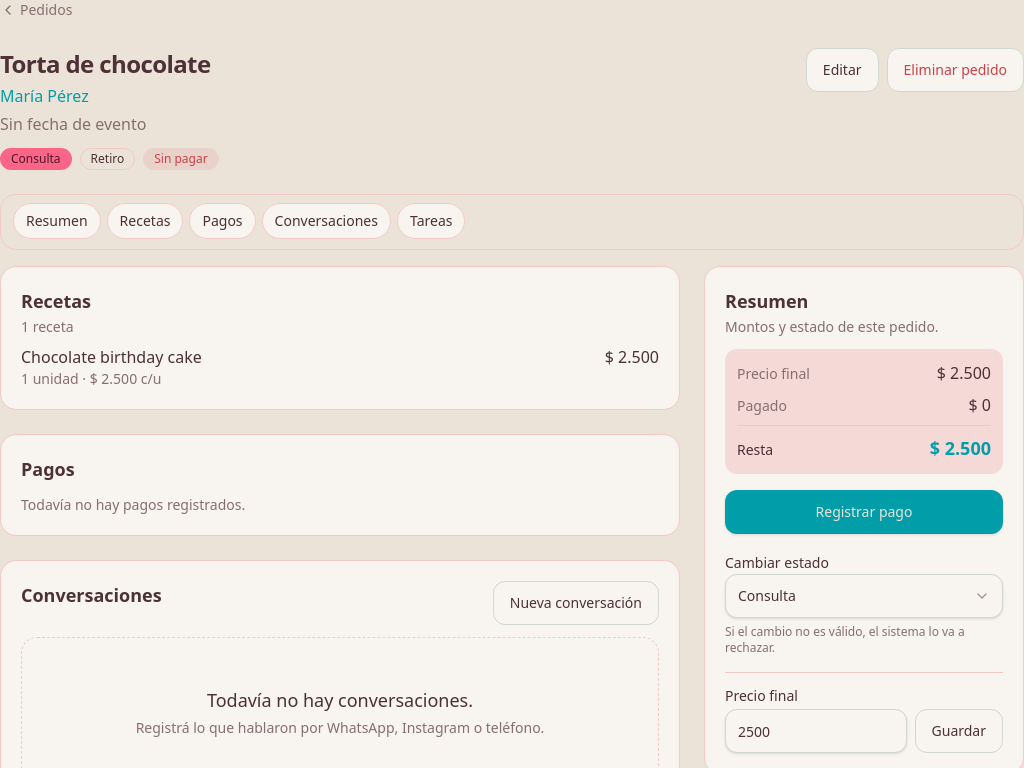
it: orders and payments › records a conversation on the order timeline
Click the button "Nueva conversación". click: coordinates (576, 603)
box: 493,581 -> 659,625
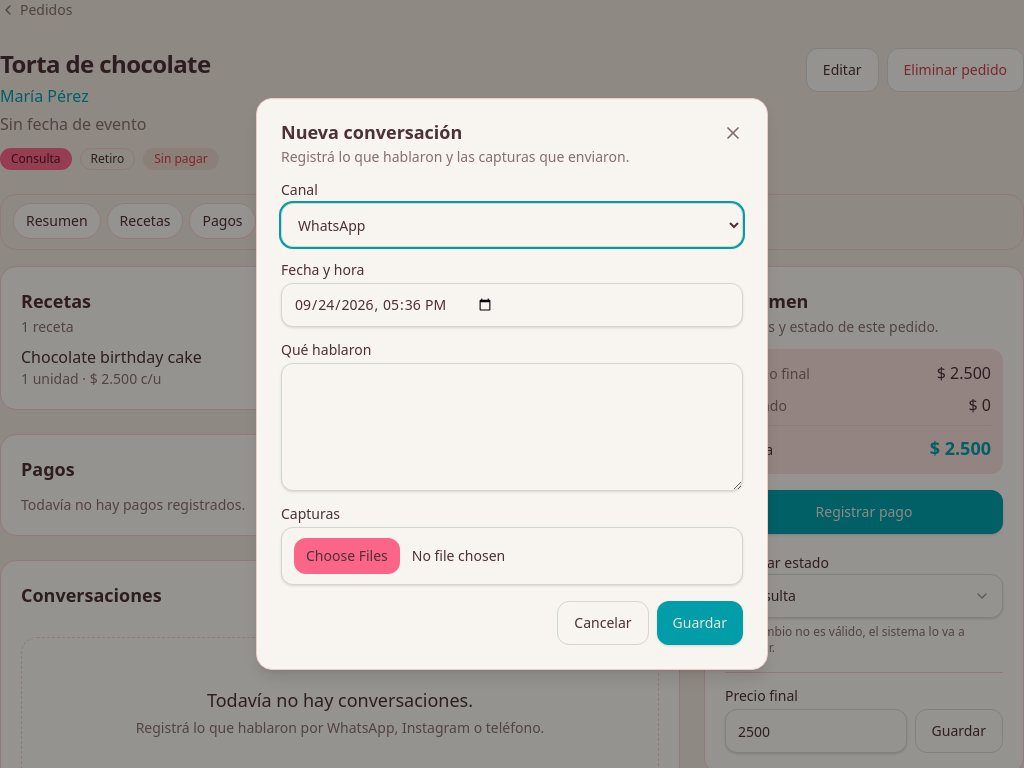
Select "WhatsApp" in the dropdown labelled "Canal". click: coordinates (512, 225)
box: 281,203 -> 743,247
Type "Confirmó el retiro a las 15." into the text box labelled "Qué hablaron". click: coordinates (512, 427)
box: 281,363 -> 743,491
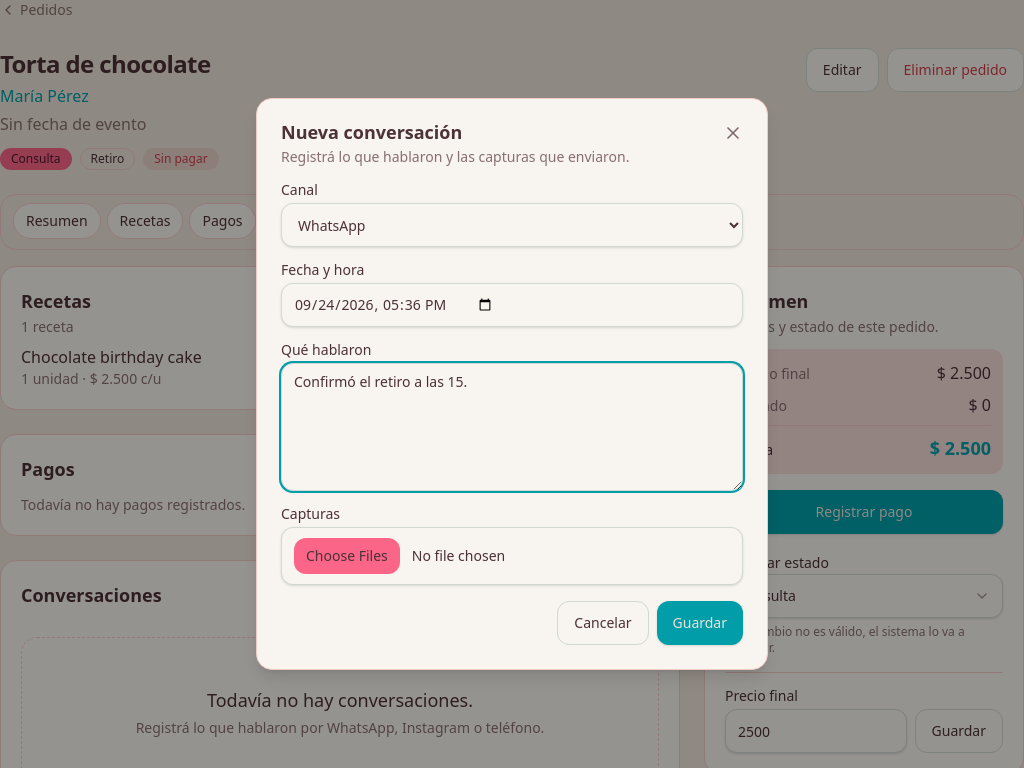
Click the button "Guardar". click: coordinates (700, 623)
box: 656,601 -> 743,645
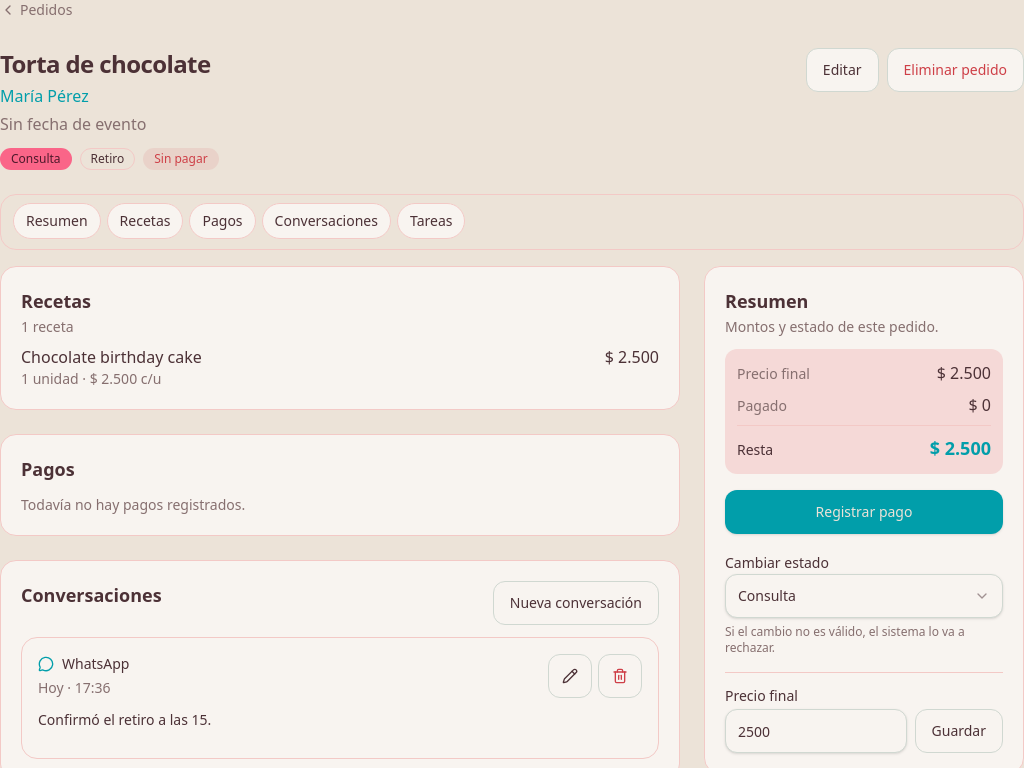
Expected: the text "WhatsApp" is shown, 62,654 -> 130,674
Now the text "Confirmó el retiro a las 15." is shown, box 38,710 -> 211,729
